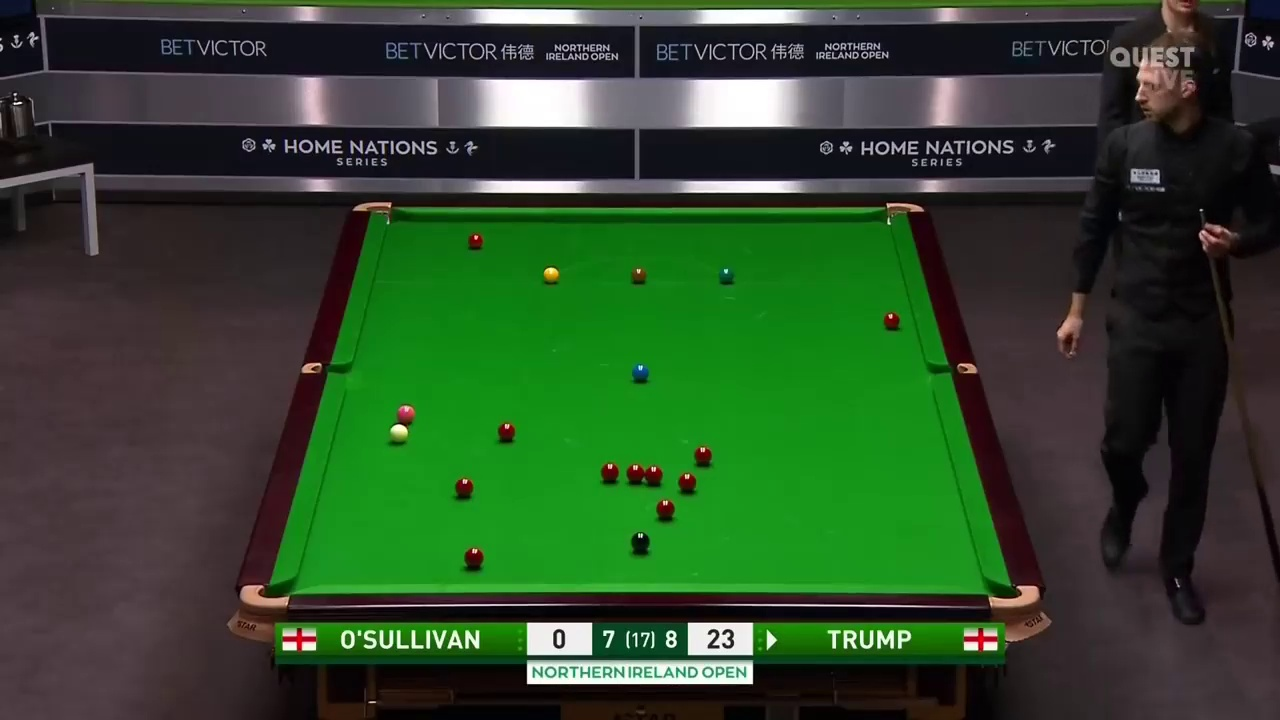ball: (386, 422, 411, 444), (462, 548, 487, 570), (653, 497, 678, 519), (629, 533, 651, 553), (601, 461, 620, 483), (631, 362, 651, 382), (453, 478, 473, 498), (498, 422, 517, 441), (541, 264, 559, 284), (628, 265, 647, 283), (695, 446, 714, 464), (678, 472, 697, 490), (467, 230, 484, 249), (718, 266, 735, 285), (882, 312, 901, 329)
